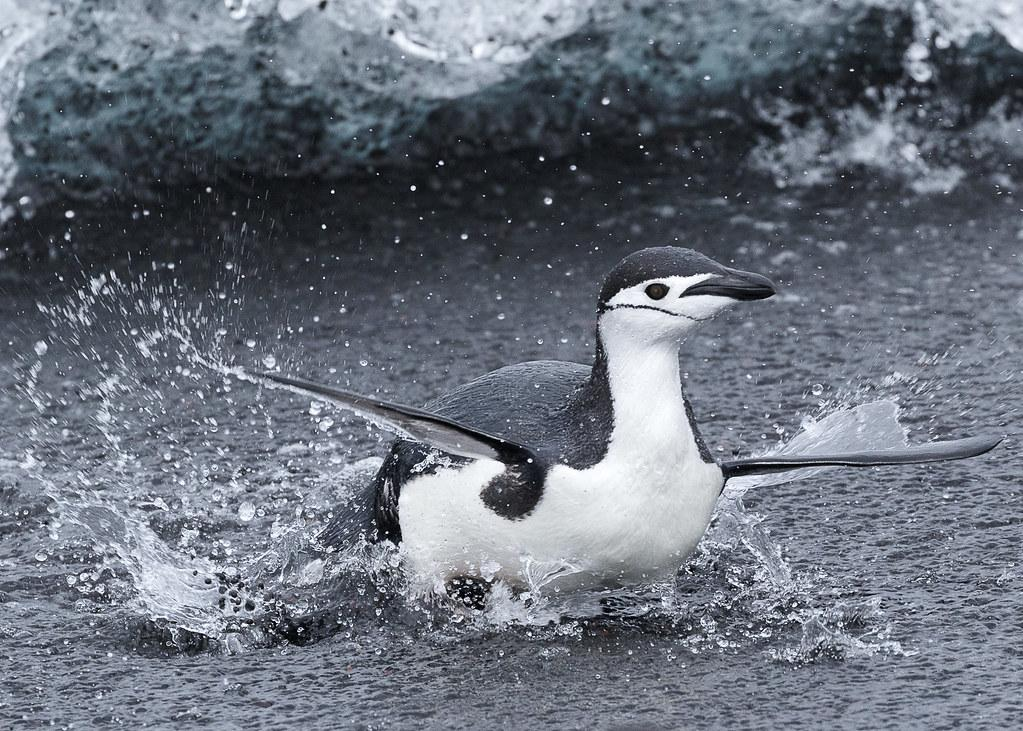chinstrap: (222, 224, 931, 595)
